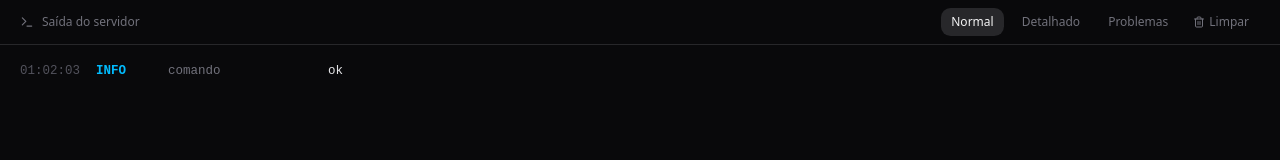
Test case: LogPanel › avisa quando o filtro esconde tudo
Click the radio button labelled "Problemas" at coordinates (1138, 22), box [1098, 8, 1178, 36]
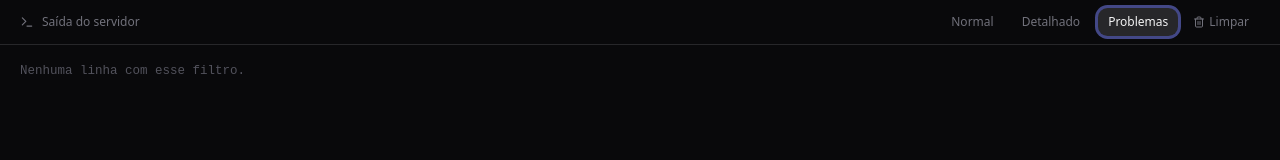
Expected: the text "Nenhuma linha com esse filtro." is shown, [20, 64, 245, 78]
